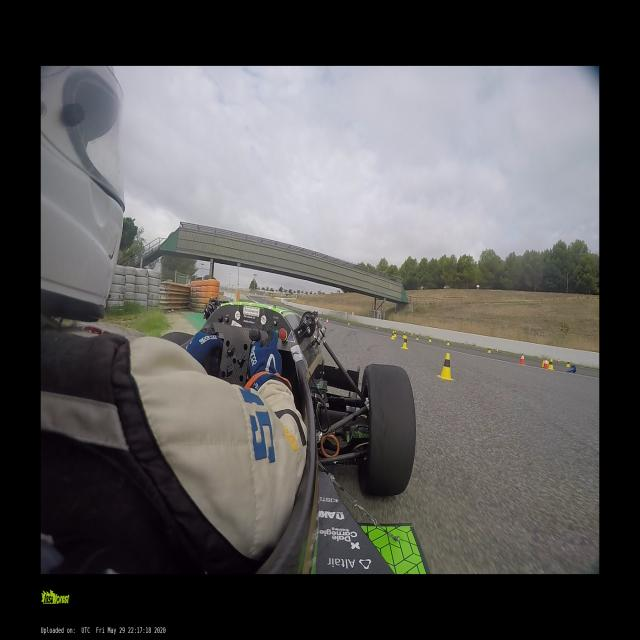blue_cone: (566, 365, 576, 374)
orange_cone: (518, 353, 526, 366), (544, 358, 548, 369), (325, 318, 329, 325), (347, 321, 350, 327), (557, 358, 560, 364), (375, 327, 378, 331), (496, 348, 498, 354)
yellow_cone: (437, 353, 453, 380), (401, 336, 409, 349), (548, 359, 554, 370), (390, 331, 394, 339), (428, 336, 432, 343), (566, 360, 570, 367), (393, 330, 397, 337), (446, 340, 451, 345), (415, 335, 419, 340), (402, 332, 406, 337), (488, 347, 490, 353)
